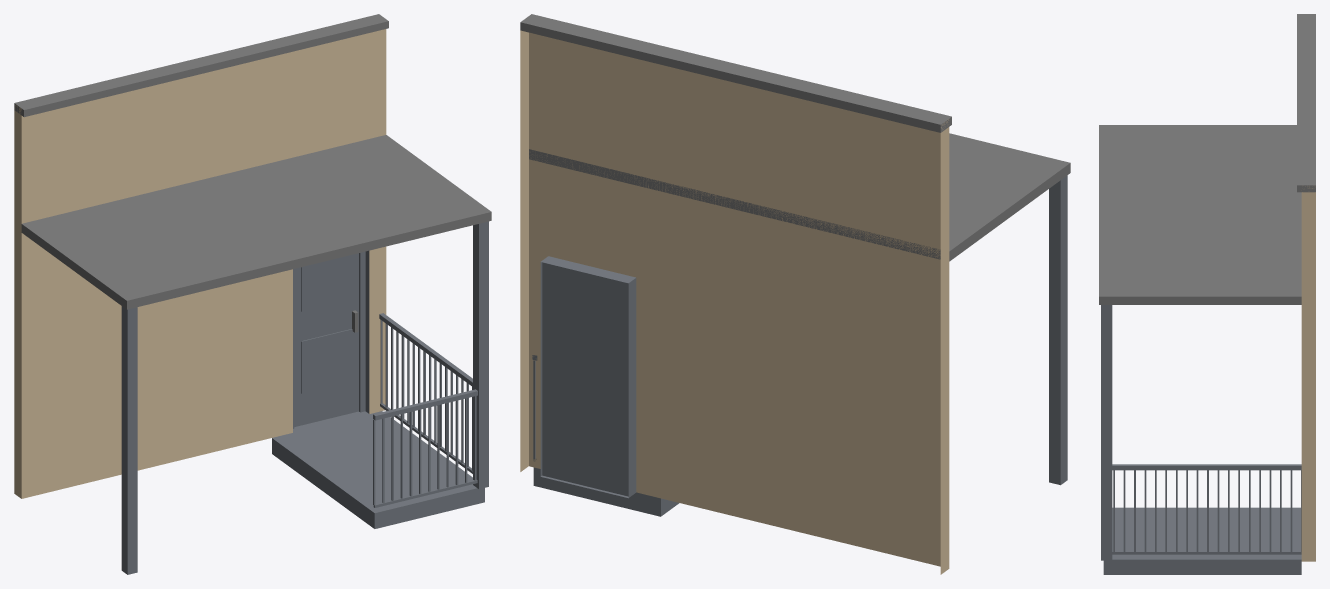
Rendered from top-stair3_close.fbx.
The picture shows the model from 3 angles, left to right: view 1: azimuth 30°, elevation 25°; view 2: azimuth 150°, elevation 25°; view 3: azimuth 270°, elevation 25°; orthographic projection. The views are drawn at different scales.
Visible parts, largest first — view 1: a2009/200/top-stair3_close; view 2: a2009/200/top-stair3_close; view 3: a2009/200/top-stair3_close.
Part boxes in pixels (x1,y1,x2,y2): a2009/200/top-stair3_close: [14, 14, 491, 574]; a2009/200/top-stair3_close: [520, 14, 1070, 574]; a2009/200/top-stair3_close: [1099, 14, 1315, 574].
Size of the model in its own units: 4.3 by 4.58 by 2.3.
